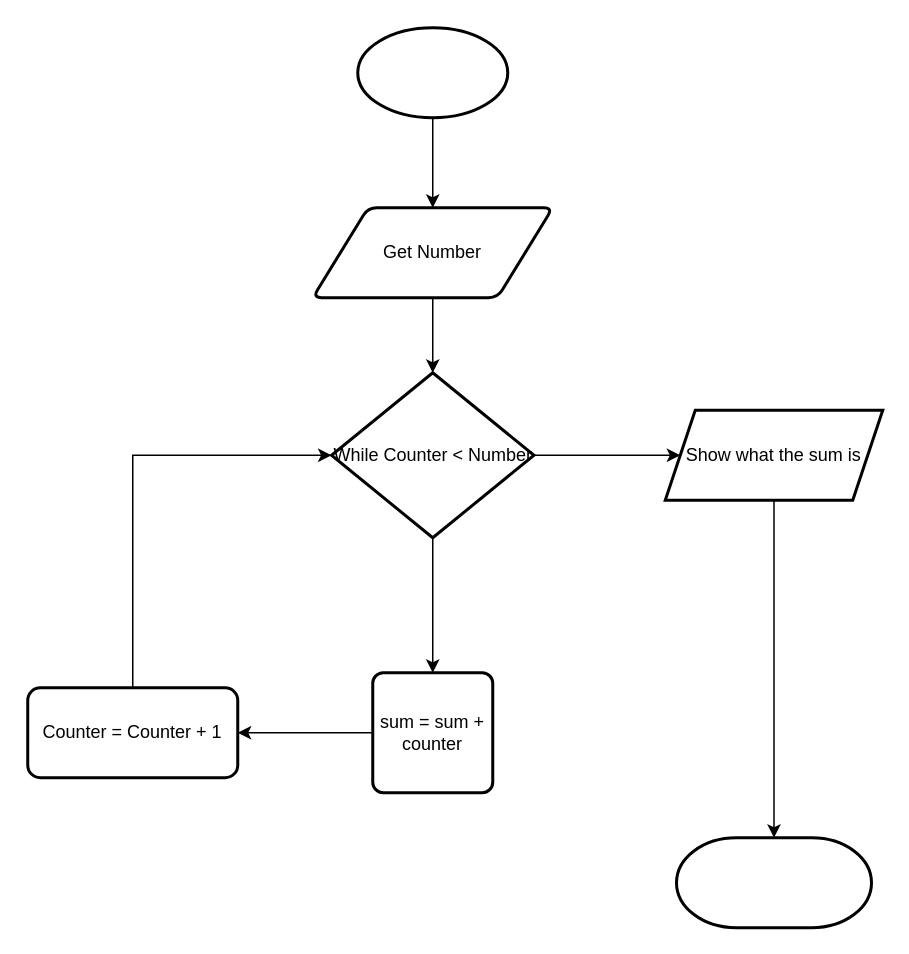
This 909x954 diagram has some shape labels left out. The centre of each missing label's shape, as x and y in pixels:
Start: the point at 432,72
Stop: the point at 773,882
